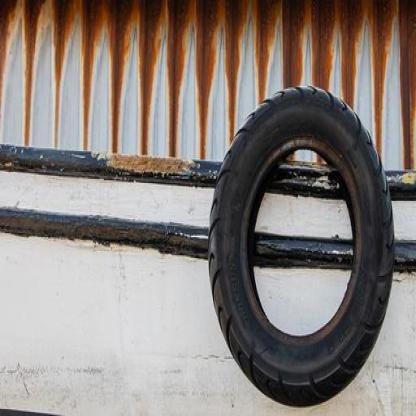Tire: (207, 86, 395, 407)
